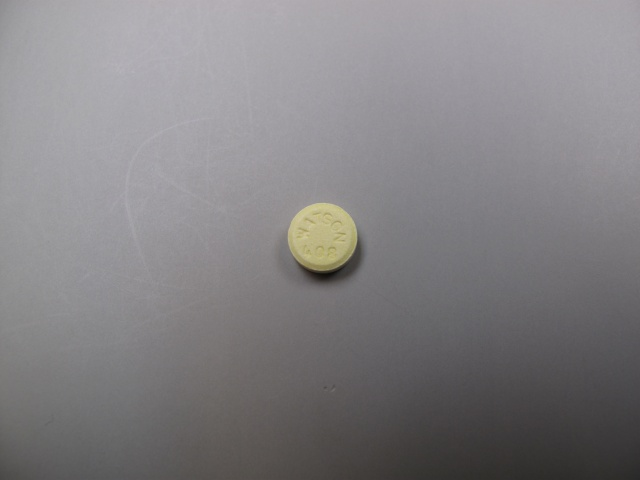0: (315, 244, 325, 261)
4: (302, 244, 314, 259)
8: (326, 244, 336, 262)
N: (333, 231, 348, 243)
W: (296, 227, 311, 243)
